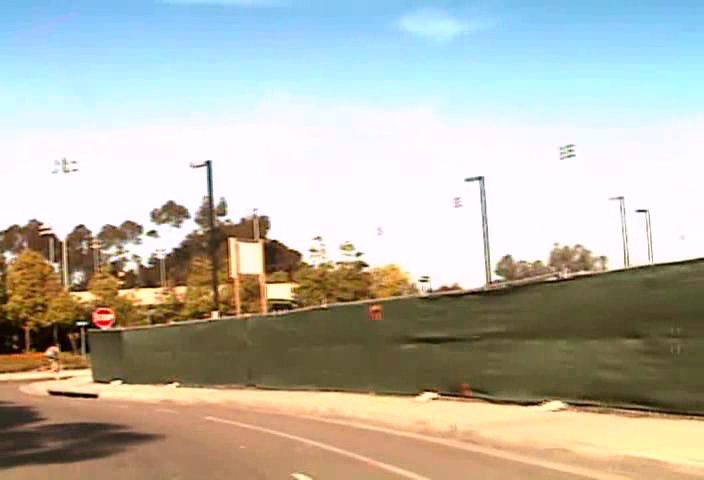stop: (92, 306, 115, 328)
